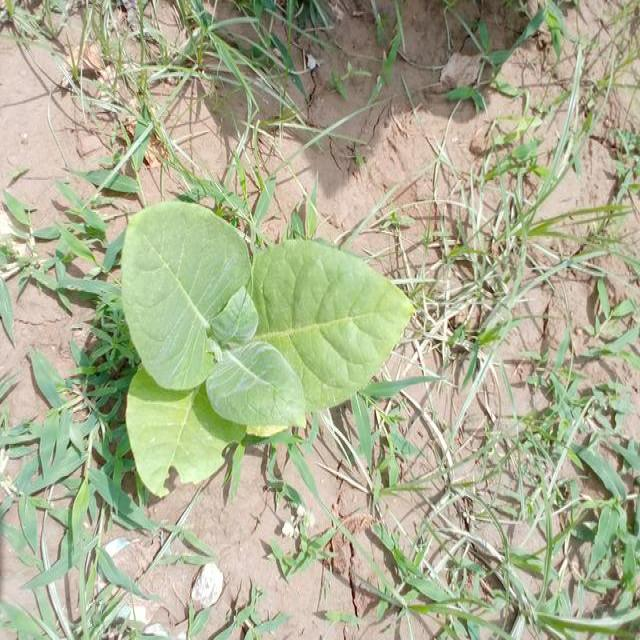crop: (116, 225, 407, 456)
